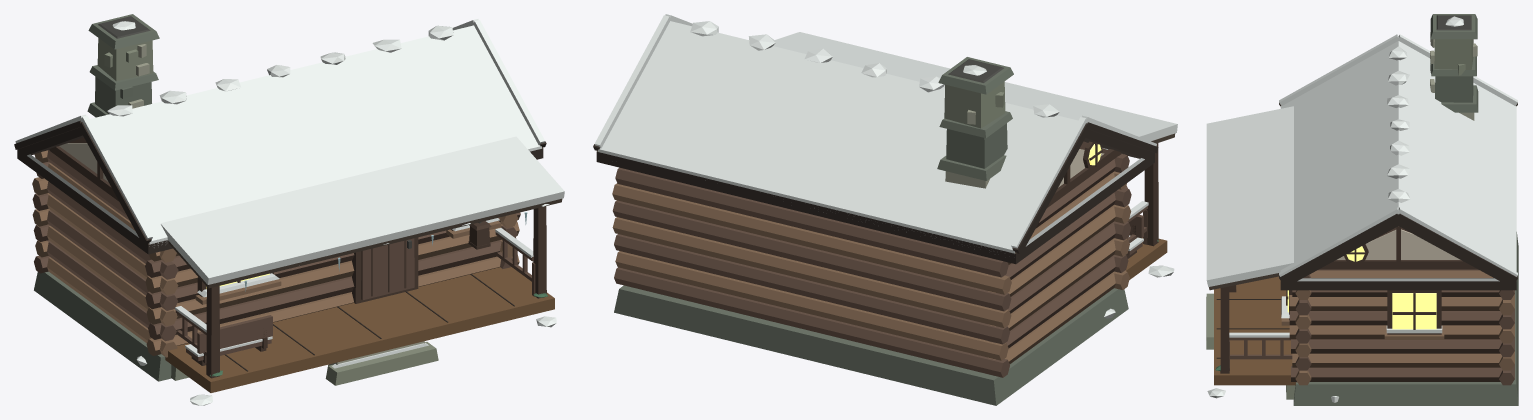
The model's file is wooden_cabin.glb.
The picture shows the model from 3 angles, left to right: view 1: azimuth 30°, elevation 25°; view 2: azimuth 150°, elevation 25°; view 3: azimuth 270°, elevation 25°; orthographic projection. The views are drawn at different scales.
Visible parts, largest first — view 1: wooden_cabin; view 2: wooden_cabin; view 3: wooden_cabin.
Part boxes in pixels (x1=…): wooden_cabin: x1=14, y1=14, x2=564, y2=405; wooden_cabin: x1=593, y1=14, x2=1177, y2=405; wooden_cabin: x1=1206, y1=14, x2=1518, y2=405.
Size of the model in its own units: 6 by 4 by 4.5.
